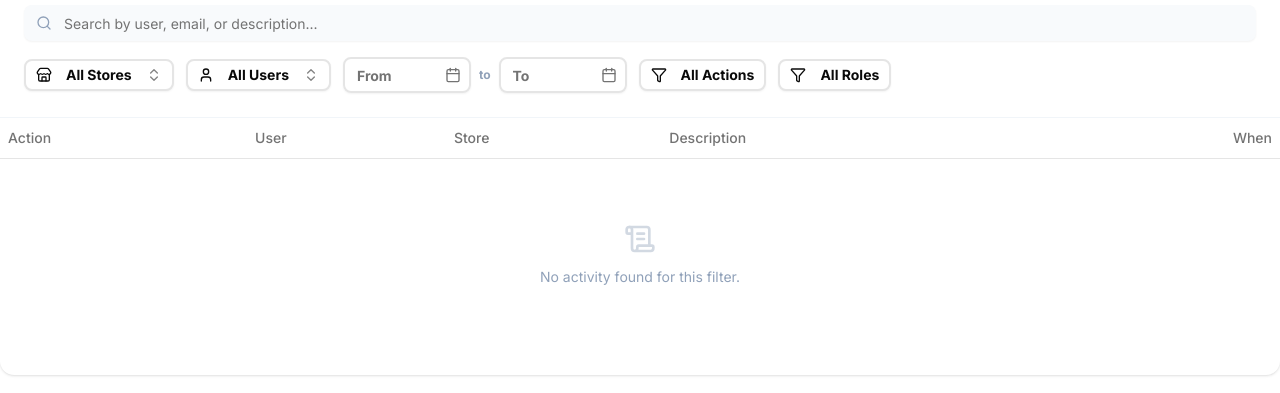
Test: Activity page actor-role filter › shows the selected role as the dropdown's label
Click the button "All Roles". click: (835, 75)
box: [778,59,891,91]
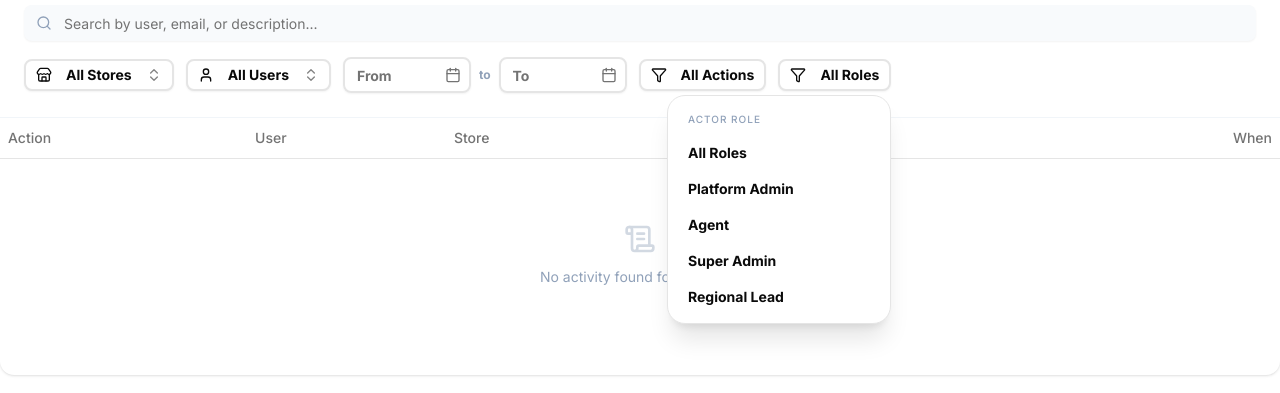
Click the menu item "Agent". click: (709, 224)
box: [688,216,729,233]
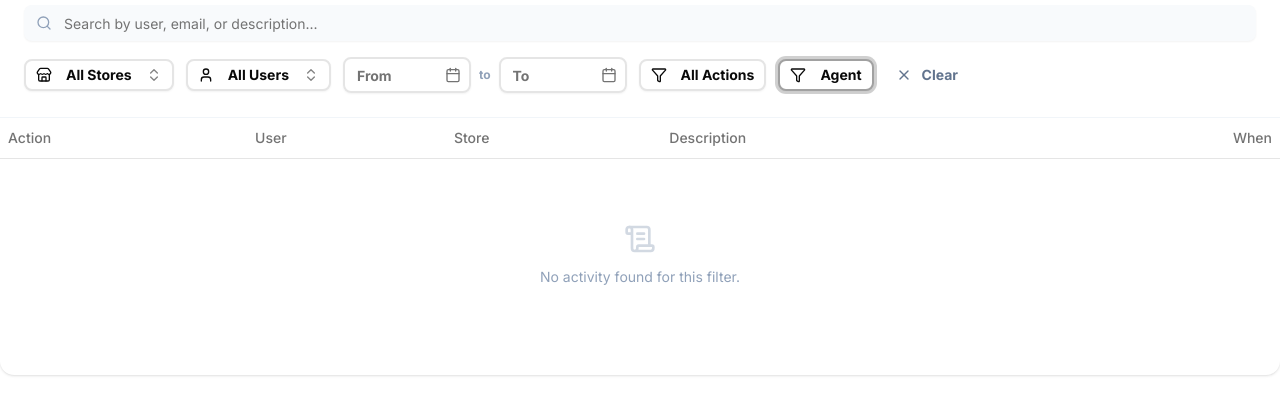
Result: the button "Agent" is shown at [778,59,874,91]
